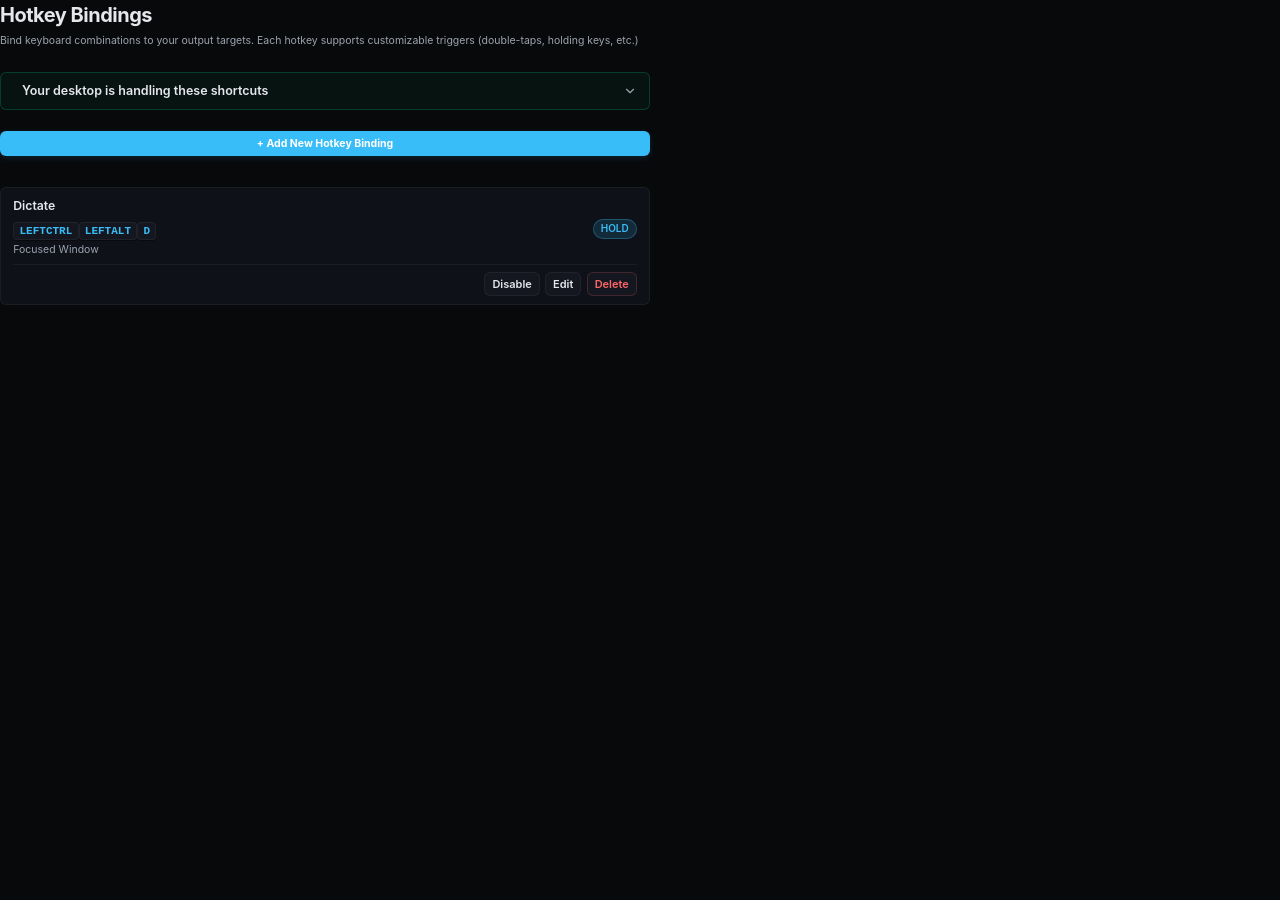
Test: HotkeysTab.svelte Conflict Detection and Nested Modal › nudges the user while only modifiers are held
Click the button "Edit". click: (563, 284)
box: top-left (545, 272), bottom-right (581, 296)
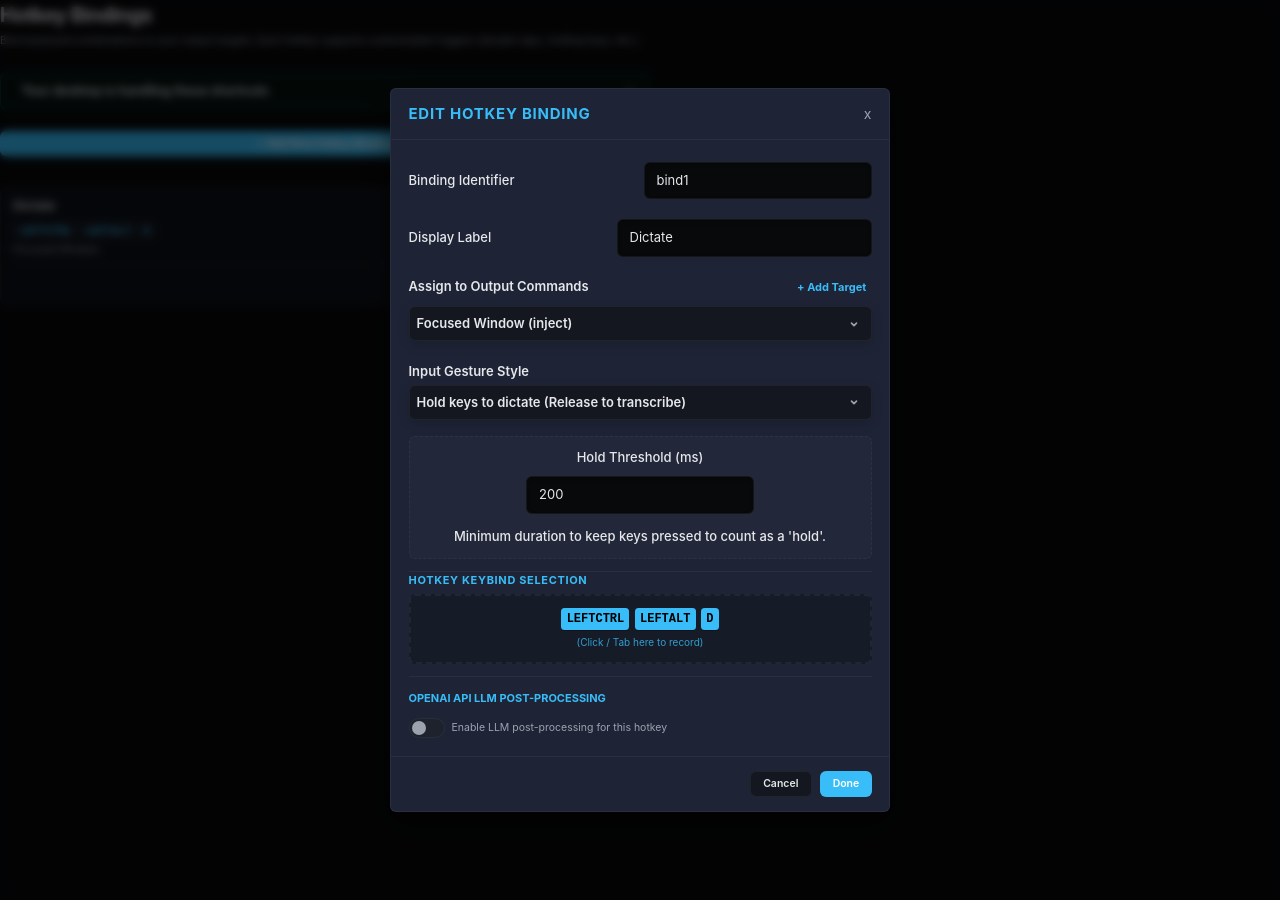
Focus the button with aria-label "Base Hotkey recorder input". click: (640, 629)
box: top-left (408, 594), bottom-right (872, 664)
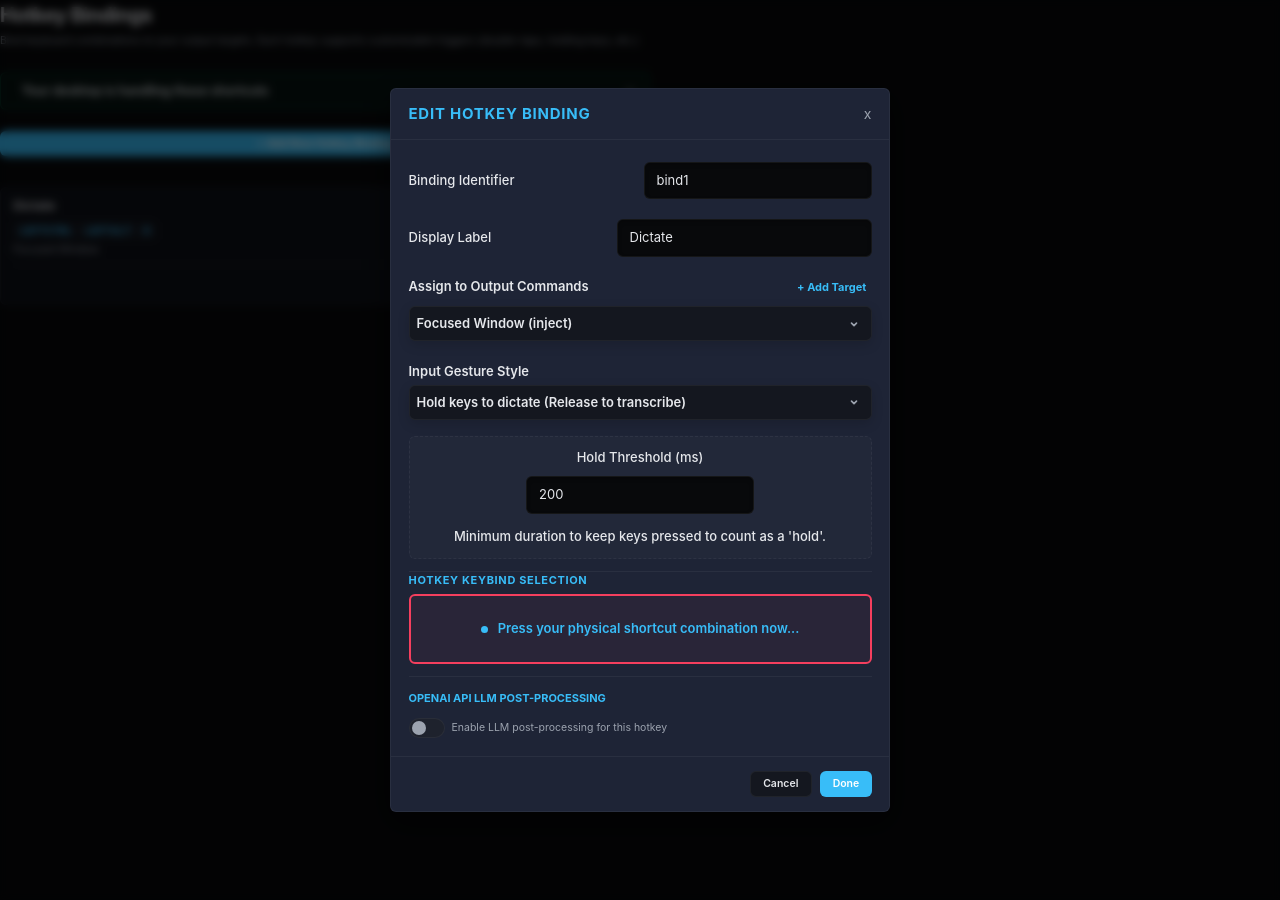
Press Meta in the button with aria-label "Base Hotkey recorder input", box top-left (408, 594), bottom-right (872, 664)
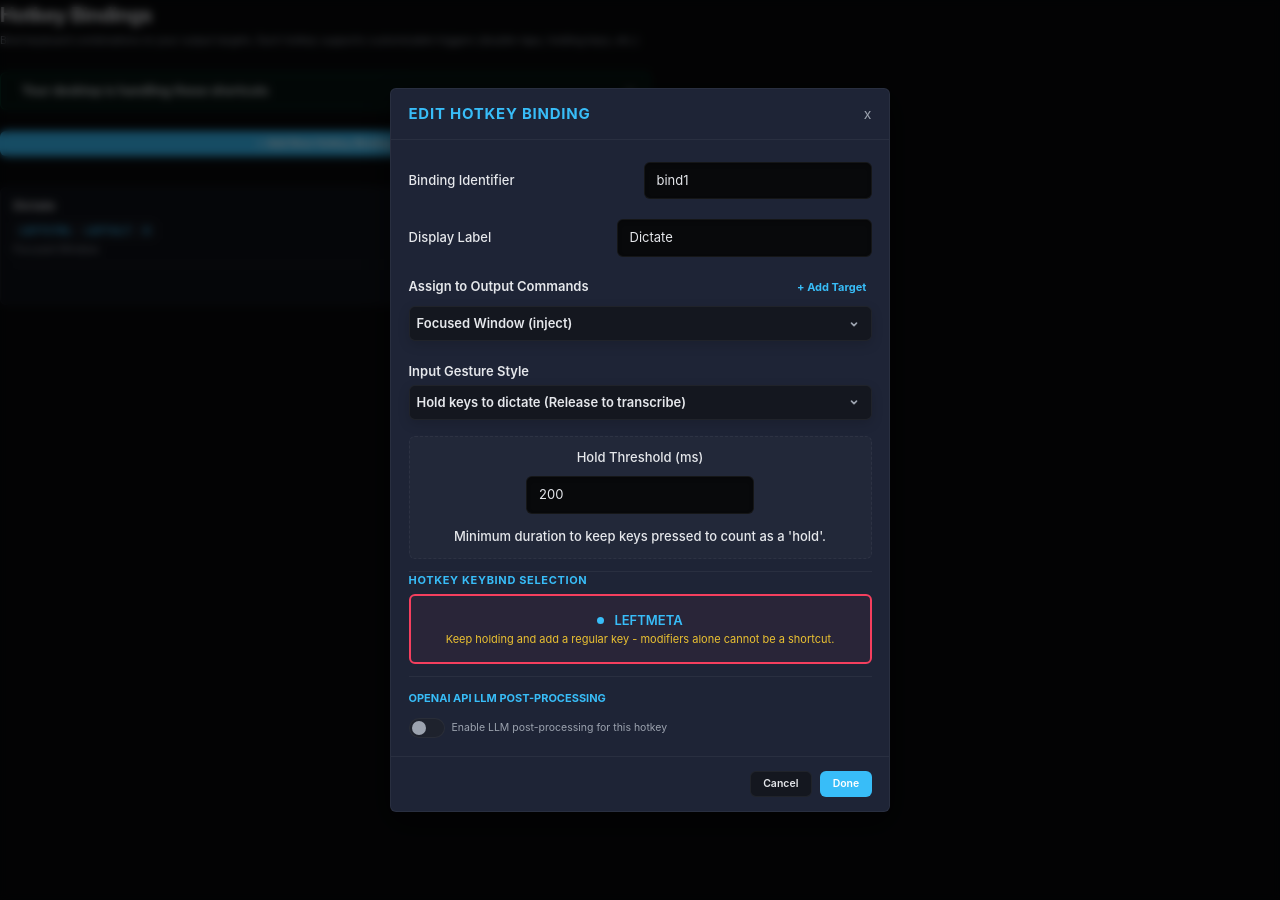
Expected: the text "add a regular key" is shown, top-left (446, 632), bottom-right (834, 646)
